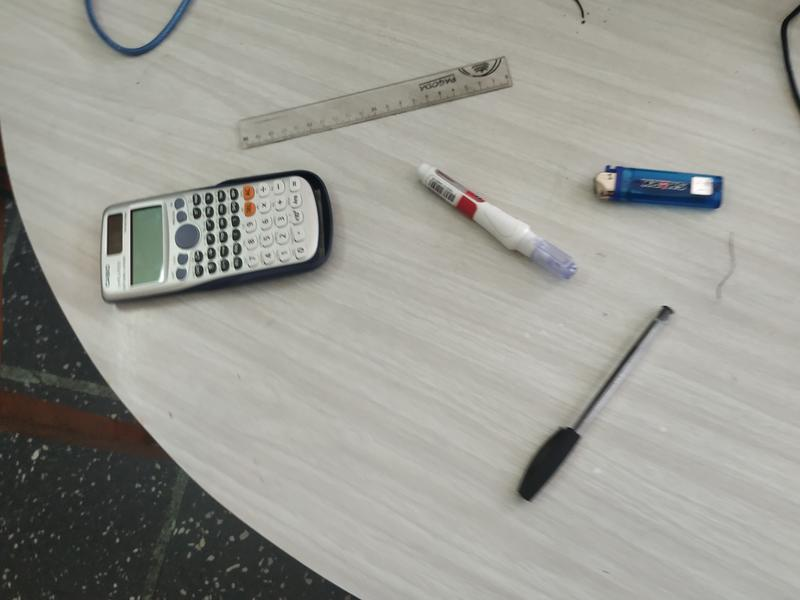calculadora: (100, 167, 329, 311)
corrector: (402, 158, 588, 292)
encendedor: (583, 154, 731, 221)
lapicera: (514, 303, 682, 512)
regla: (233, 51, 512, 152)
